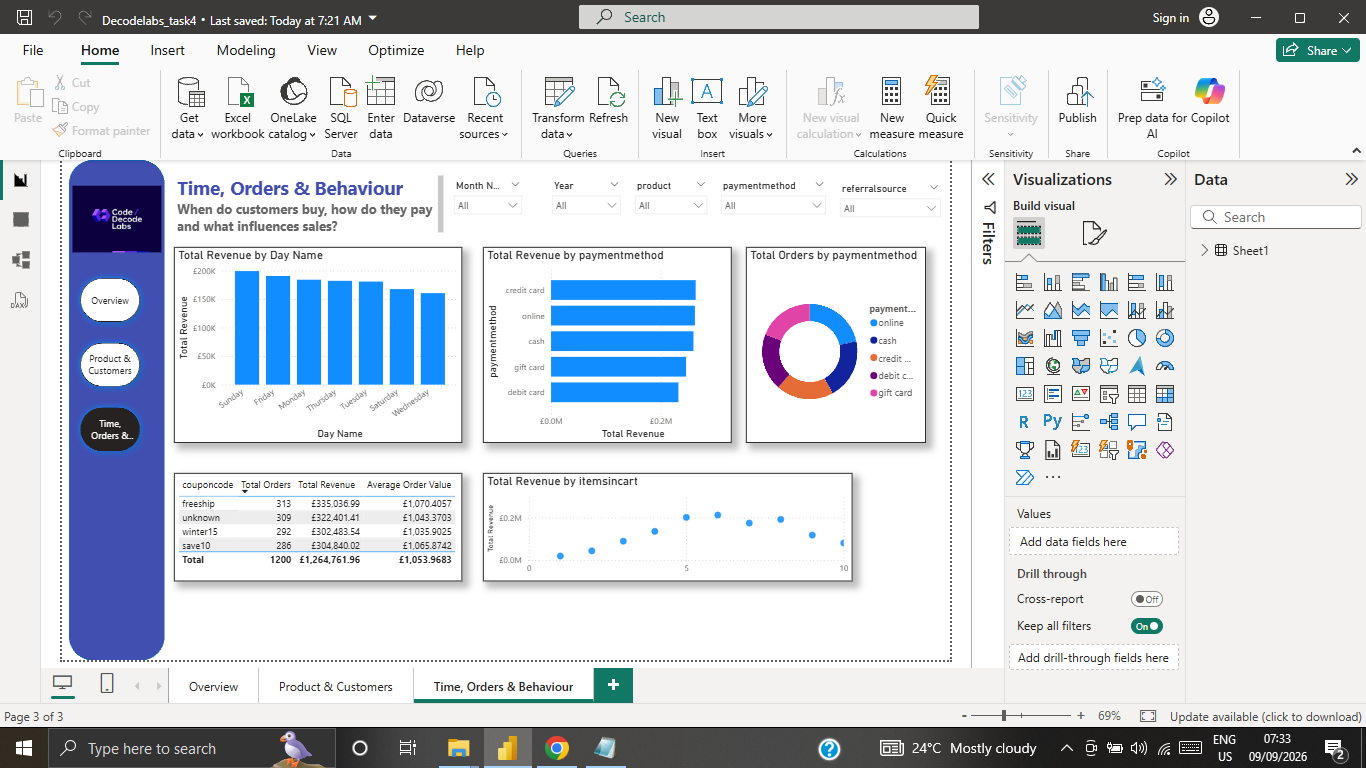

The page's visual inventory and layout, read from the dashboard file:
{"tool":"powerbi","page":{"name":"Time, Orders & Behaviour","canvas":[1280,720],"ordinal":2},"visuals":[{"type":"textbox","box":[161.3,16.8,393.1,94.1],"z":0},{"type":"shape","box":[10.1,0,137.7,720.6],"z":1000},{"type":"slicer","fields":{"Values":["Sheet1.Month Name"]},"box":[554.3,23.5,117.6,73.9],"z":2000},{"type":"slicer","fields":{"Values":["Sheet1.Year"]},"box":[695.4,23.5,119.3,73.9],"z":3000},{"type":"slicer","fields":{"Values":["Sheet1.product"]},"box":[814.7,23.5,124.3,63.8],"z":4000},{"type":"slicer","fields":{"Values":["Sheet1.paymentmethod"]},"box":[939,23.5,171.3,75.6],"z":5000},{"type":"slicer","fields":{"Values":["Sheet1.referralsource"]},"box":[1110.3,26.9,164.6,60.5],"z":6000},{"type":"columnChart","fields":{"Category":["Sheet1.Day Name"],"Y":["Sheet1.Total Revenue"]},"box":[161.3,126,414.9,282.2],"z":7000},{"type":"barChart","fields":{"Y":["Sheet1.Total Revenue"],"Category":["Sheet1.paymentmethod"]},"box":[606.4,126,357.8,282.2],"z":8000},{"type":"donutChart","fields":{"Y":["Sheet1.Total Orders"],"Category":["Sheet1.paymentmethod"]},"box":[984.4,126,258.7,282.2],"z":9000},{"type":"tableEx","fields":{"Values":["Sheet1.couponcode","Sheet1.Total Orders","Sheet1.Total Revenue","Sheet1.Average Order Value"]},"box":[161.3,450.2,414.9,156.2],"z":10000},{"type":"scatterChart","fields":{"X":["Sheet1.itemsincart"],"Y":["Sheet1.Total Revenue"]},"box":[606.4,450.2,532.5,156.2],"z":11000},{"type":"image","box":[10.1,23.5,137.7,124.3],"z":12000},{"type":"pageNavigator","box":[16.8,161.3,104.1,267.1],"z":13000}]}

Visuals, with their boxes on the page's 1280x720 design canvas (x1, y1, x2, y2). These are canvas units, not pixel positions in the 1366x768 screenshot, which may show the page scaled, cropped or inside an application window:
textbox: Rect(161, 17, 554, 111)
shape: Rect(10, 0, 148, 721)
slicer - Sheet1.Month Name: Rect(554, 24, 672, 97)
slicer - Sheet1.Year: Rect(695, 24, 815, 97)
slicer - Sheet1.product: Rect(815, 24, 939, 87)
slicer - Sheet1.paymentmethod: Rect(939, 24, 1110, 99)
slicer - Sheet1.referralsource: Rect(1110, 27, 1275, 87)
columnChart - Sheet1.Day Name x Sheet1.Total Revenue: Rect(161, 126, 576, 408)
barChart - Sheet1.Total Revenue x Sheet1.paymentmethod: Rect(606, 126, 964, 408)
donutChart - Sheet1.Total Orders x Sheet1.paymentmethod: Rect(984, 126, 1243, 408)
tableEx - Sheet1.couponcode x Sheet1.Total Orders: Rect(161, 450, 576, 606)
scatterChart - Sheet1.itemsincart x Sheet1.Total Revenue: Rect(606, 450, 1139, 606)
image: Rect(10, 24, 148, 148)
pageNavigator: Rect(17, 161, 121, 428)
